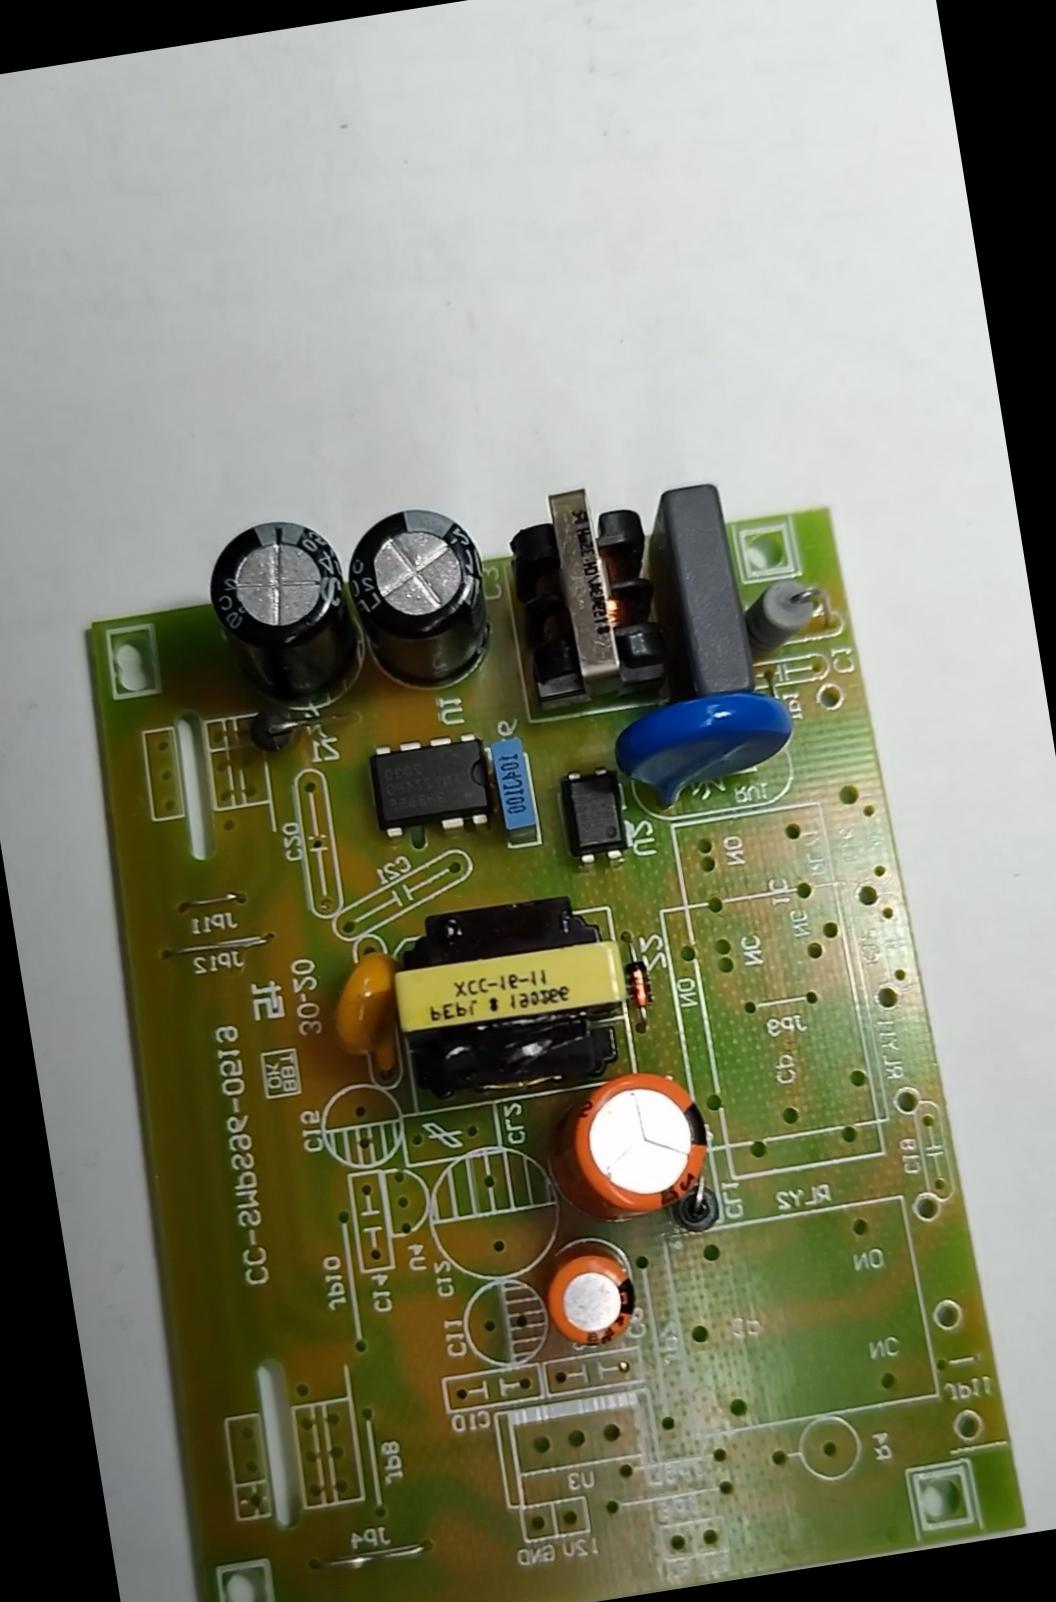Cap1: (561, 1061, 725, 1232)
Cap2: (537, 1244, 646, 1350)
Cap3: (334, 494, 502, 708)
Cap4: (198, 509, 368, 722)
MOSFET: (358, 722, 502, 847)
Mov: (598, 677, 812, 827)
Resistor: (742, 571, 827, 666)
Transformer: (387, 882, 646, 1108), (491, 474, 673, 709)
